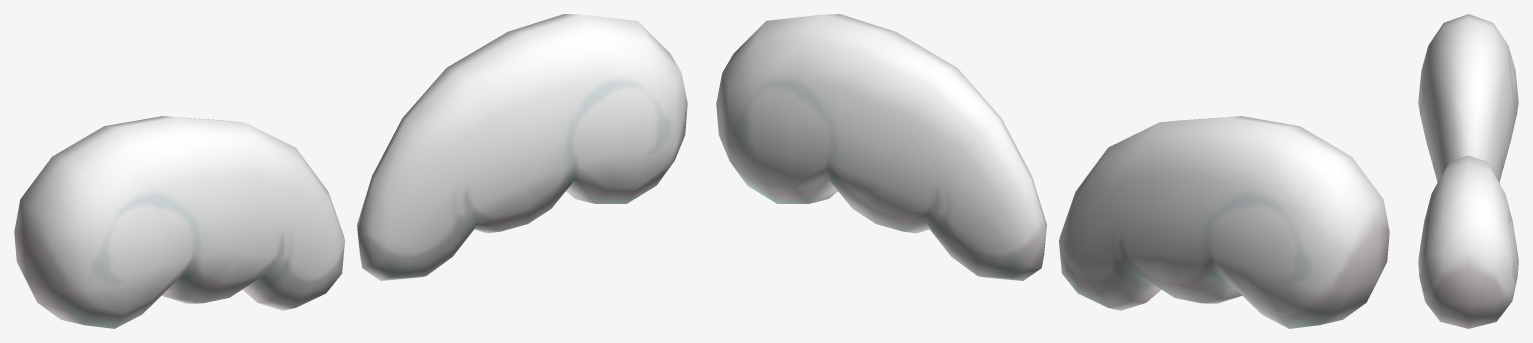
The model's file is back_acc_07.FBX.
3 views of the same model, side by side, from view 1: azimuth 30°, elevation 25°; view 2: azimuth 150°, elevation 25°; view 3: azimuth 270°, elevation 25° (orthographic). The views are drawn at different scales.
Parts seen in each view (by area): view 1: back_acc_07; view 2: back_acc_07; view 3: back_acc_07.
Boxes of the visible parts, bbox=[...] form: back_acc_07: bbox=[14, 14, 687, 328]; back_acc_07: bbox=[716, 14, 1389, 328]; back_acc_07: bbox=[1418, 14, 1518, 328].
Size of the model in its own units: 37.56 by 12.27 by 7.
